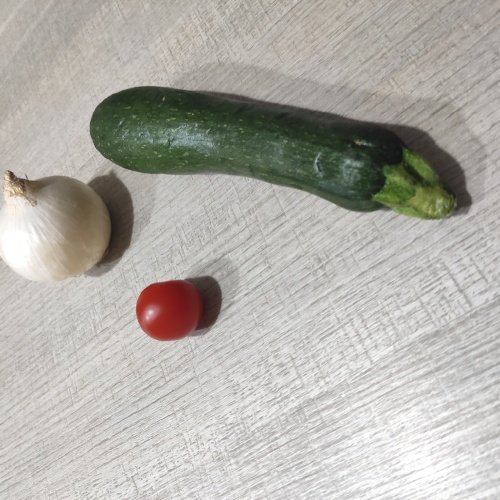cipolla: (7, 173, 117, 296)
pomodoro: (133, 278, 206, 341)
zucchine: (93, 87, 457, 227)
